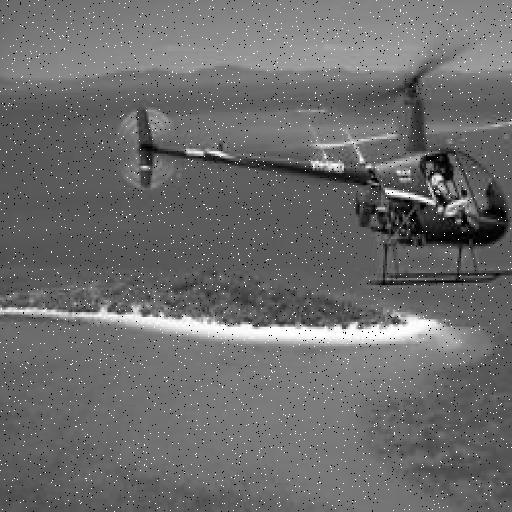helicopter: (116, 45, 512, 291)
